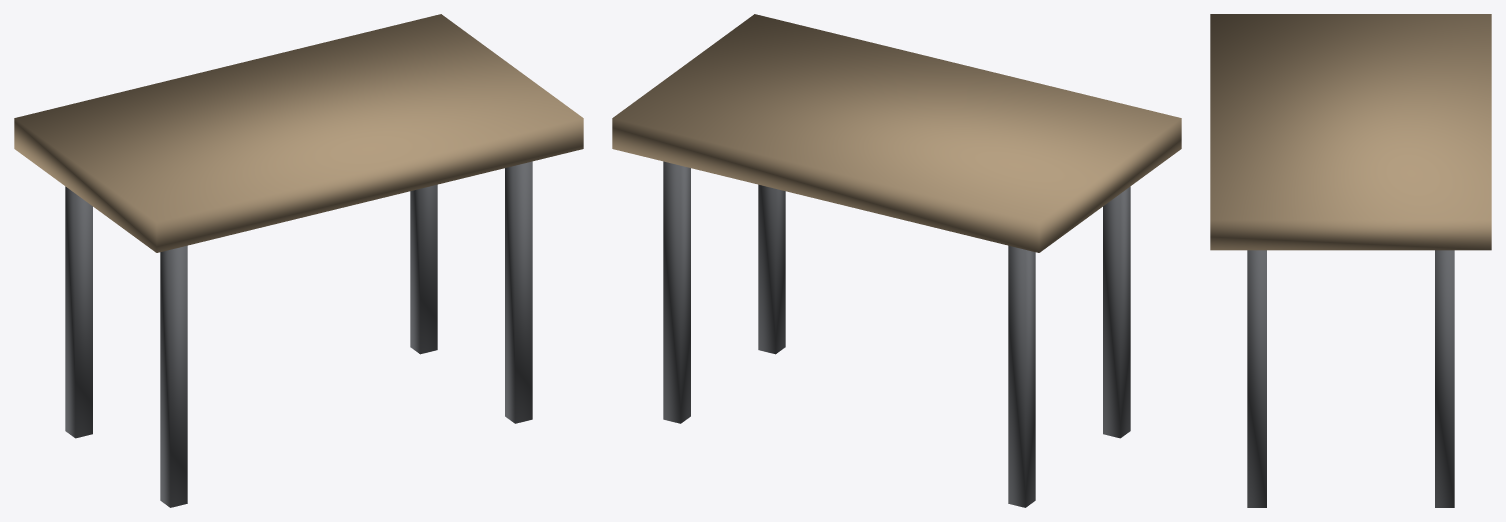
File: dining_table__tall.glb
3 views of the same model, side by side, from view 1: azimuth 30°, elevation 25°; view 2: azimuth 150°, elevation 25°; view 3: azimuth 270°, elevation 25° (orthographic).
Visible parts, largest first — view 1: world; view 2: world; view 3: world.
Part boxes in pixels (bbox=[...]): world: bbox=[14, 14, 583, 507]; world: bbox=[612, 14, 1181, 507]; world: bbox=[1210, 14, 1491, 507].
Bounding box in the file's own units: 1.35 × 0.928 × 0.78.
